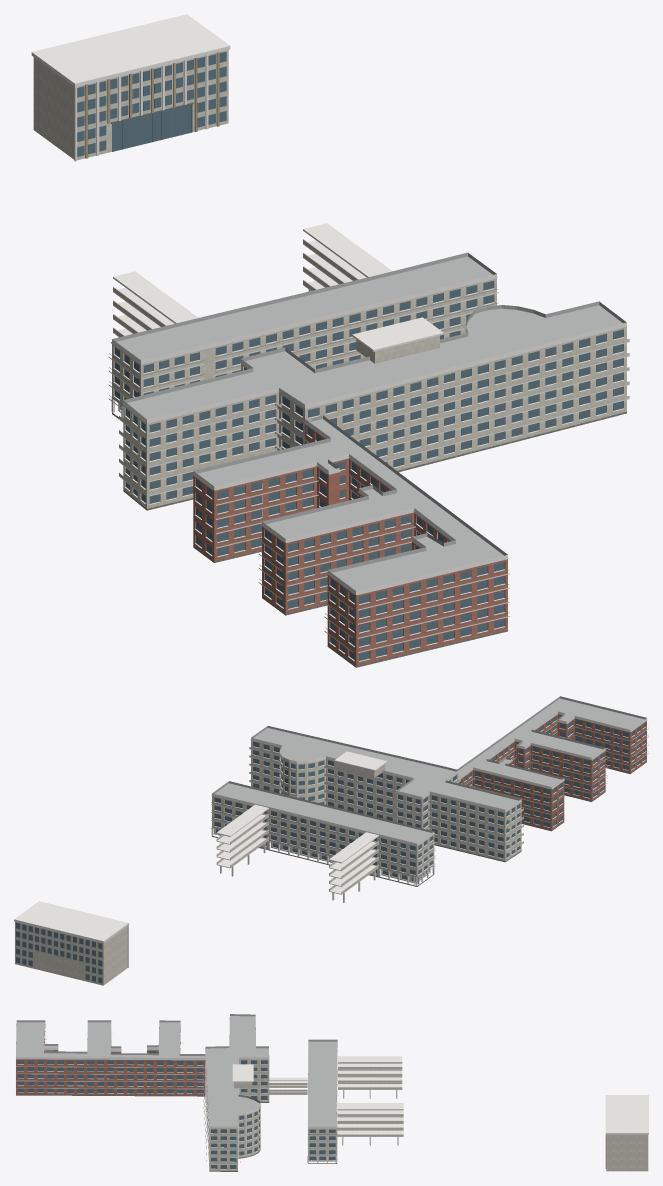
Rendered from d02_academic_core_lod0.glb.
3 views of the same model, one above another, from view 1: azimuth 30°, elevation 25°; view 2: azimuth 150°, elevation 25°; view 3: azimuth 270°, elevation 25° (orthographic). The views are drawn at different scales.
Parts seen in each view (by area): view 1: science, south_classrooms, erhao, keji_tech_building, link_e12, link_w12; view 2: science, south_classrooms, erhao, keji_tech_building, link_e12, link_w12; view 3: south_classrooms, science, erhao, keji_tech_building, link_e12, link_w12, link_sci2.
Part boxes in pixels (<box>): science: <box>119,301,629,510</box>; south_classrooms: <box>192,415,509,667</box>; erhao: <box>108,252,498,418</box>; keji_tech_building: <box>31,14,230,161</box>; link_e12: <box>303,223,392,291</box>; link_w12: <box>113,271,198,337</box>; science: <box>249,726,523,862</box>; south_classrooms: <box>457,696,648,831</box>; erhao: <box>211,781,435,886</box>; keji_tech_building: <box>14,901,128,985</box>; link_e12: <box>216,804,268,876</box>; link_w12: <box>329,832,378,902</box>; south_classrooms: <box>15,1020,205,1096</box>; science: <box>202,1014,269,1171</box>; erhao: <box>307,1039,339,1163</box>; keji_tech_building: <box>605,1095,648,1171</box>; link_e12: <box>337,1103,403,1145</box>; link_w12: <box>338,1056,402,1098</box>; link_sci2: <box>269,1077,307,1094</box>.
Bounding box in the file's own units: 123 × 25.65 × 287.
8 materials, 4 textured.
